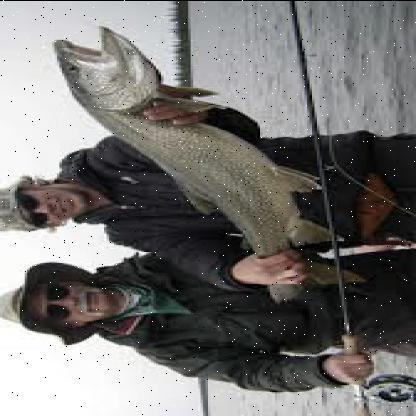fish: (51, 24, 362, 306)
